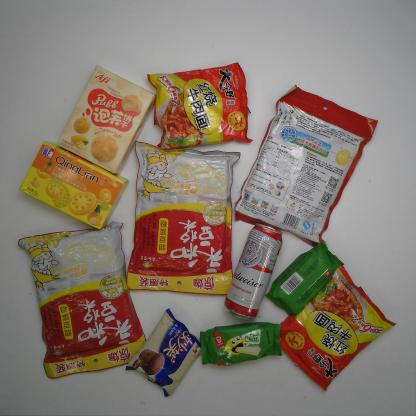Alcohol: (225, 223, 282, 321)
Dessert: (57, 63, 156, 176), (17, 140, 131, 231), (124, 306, 202, 399), (261, 242, 346, 318), (195, 320, 283, 367)
Instant Drink: (232, 83, 378, 249), (19, 222, 148, 381), (125, 136, 243, 297)
Instant Noodles: (278, 266, 396, 393), (144, 61, 253, 150)
